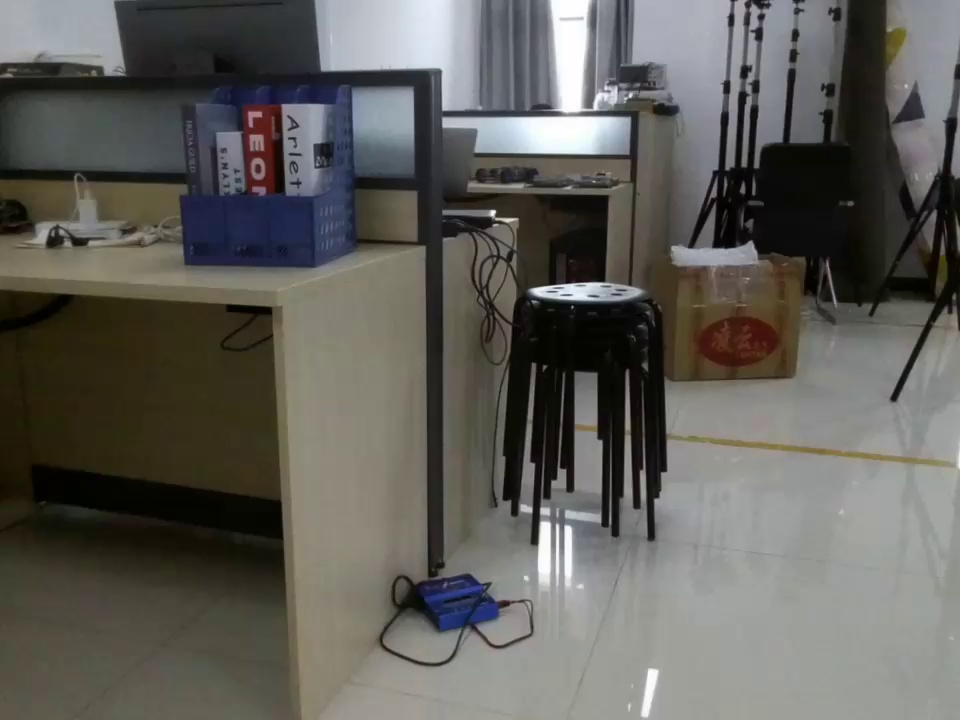files: (180, 70, 380, 280)
